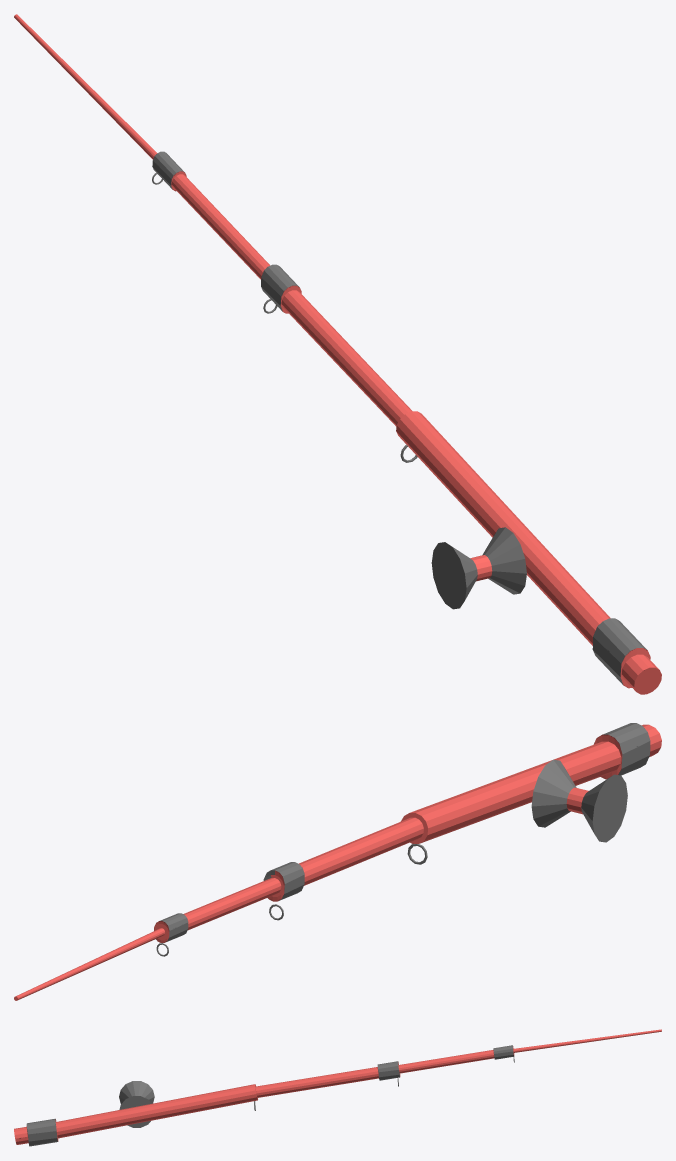
File: FishignRod.glb
3 views of the same model, one above another, from view 1: azimuth 30°, elevation 25°; view 2: azimuth 150°, elevation 25°; view 3: azimuth 270°, elevation 25° (orthographic). The views are drawn at different scales.
Visible parts, largest first — view 1: Pole; view 2: Pole; view 3: Pole.
Boxes of the visible parts, left/top/right/bottom form: Pole: left=14, top=14, right=661, bottom=694; Pole: left=14, top=723, right=661, bottom=1000; Pole: left=14, top=1029, right=661, bottom=1146.
Bounding box in the file's own units: 0.2747 × 0.6158 × 3.13.
2 materials, 2 textured.
